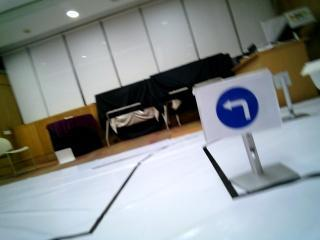left: (202, 83, 275, 132)
